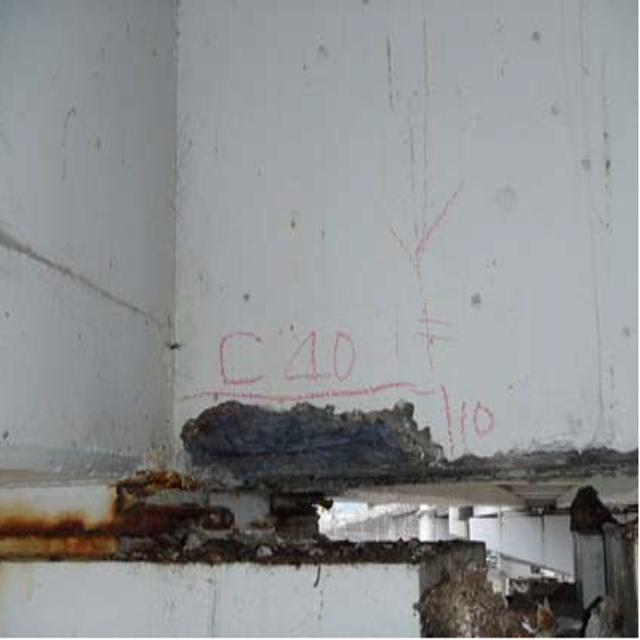corrosion: (8, 489, 156, 570)
spalling: (173, 377, 466, 494)
